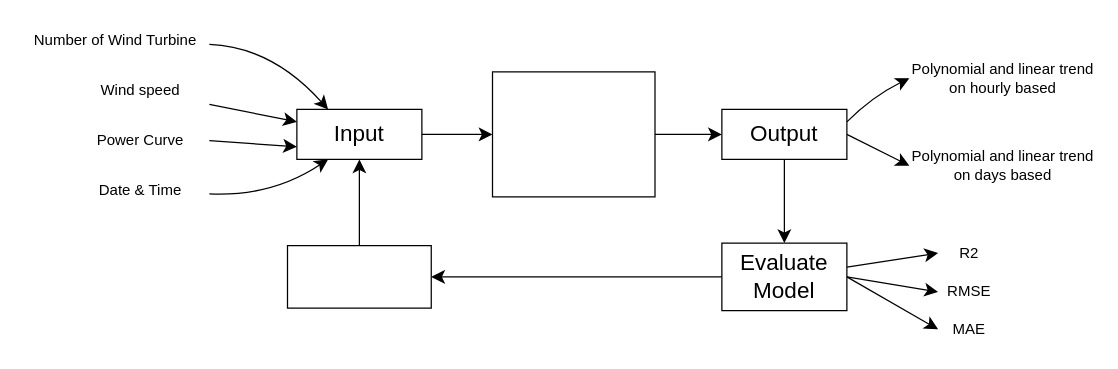
Some shapes in this 1118 by 369 pixel diagram are drawn without their labels. Here are the shapes that lost their labels. From the top down, the centre of each, then its label:
(x=573, y=134): Polynomial & Linear Regression Model
(x=358, y=276): Optimization
